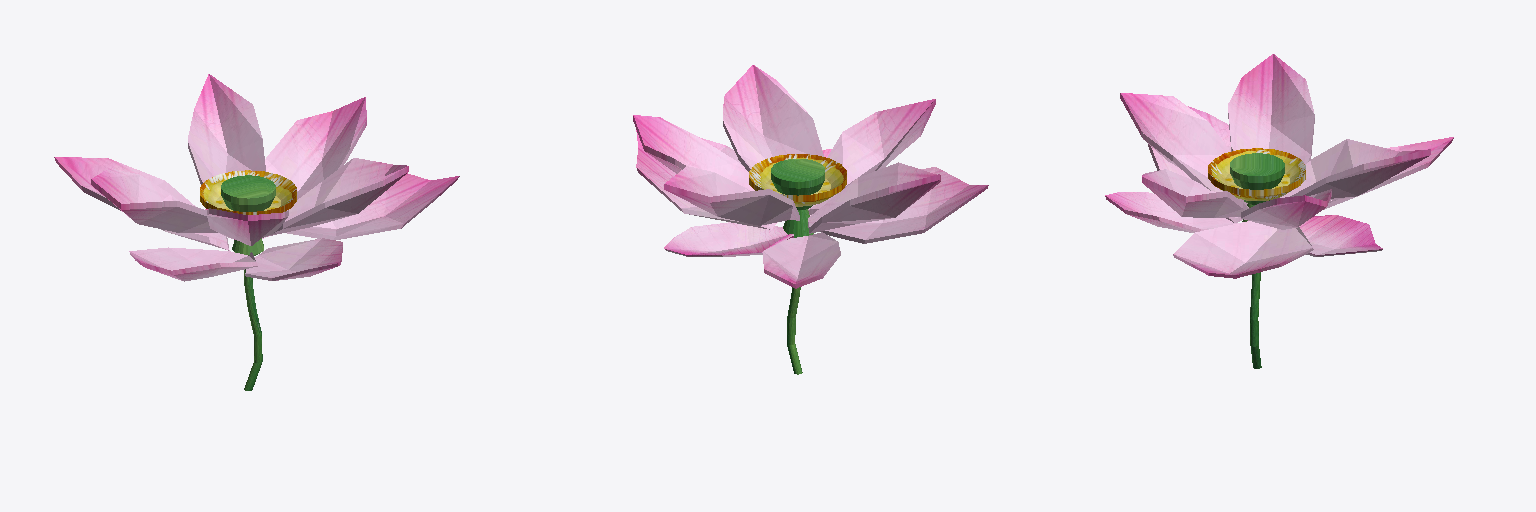
3 renders of one model, left to right at view 1: azimuth 30°, elevation 25°; view 2: azimuth 150°, elevation 25°; view 3: azimuth 270°, elevation 25°, orthographic.
Parts seen in each view (by area): view 1: Cylinder001; view 2: Cylinder001; view 3: Cylinder001.
Boxes of the visible parts, x1,y1,x2,y2 form: Cylinder001: [54, 74, 459, 390]; Cylinder001: [633, 65, 988, 374]; Cylinder001: [1105, 54, 1453, 368].
Size of the model in its own units: 44.91 by 30.71 by 40.42.
Materials: 12 (3 with a texture image).